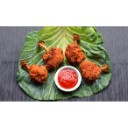chicken_lollipop: (37, 40, 65, 68), (19, 60, 48, 83), (65, 33, 87, 62), (81, 58, 110, 80)
